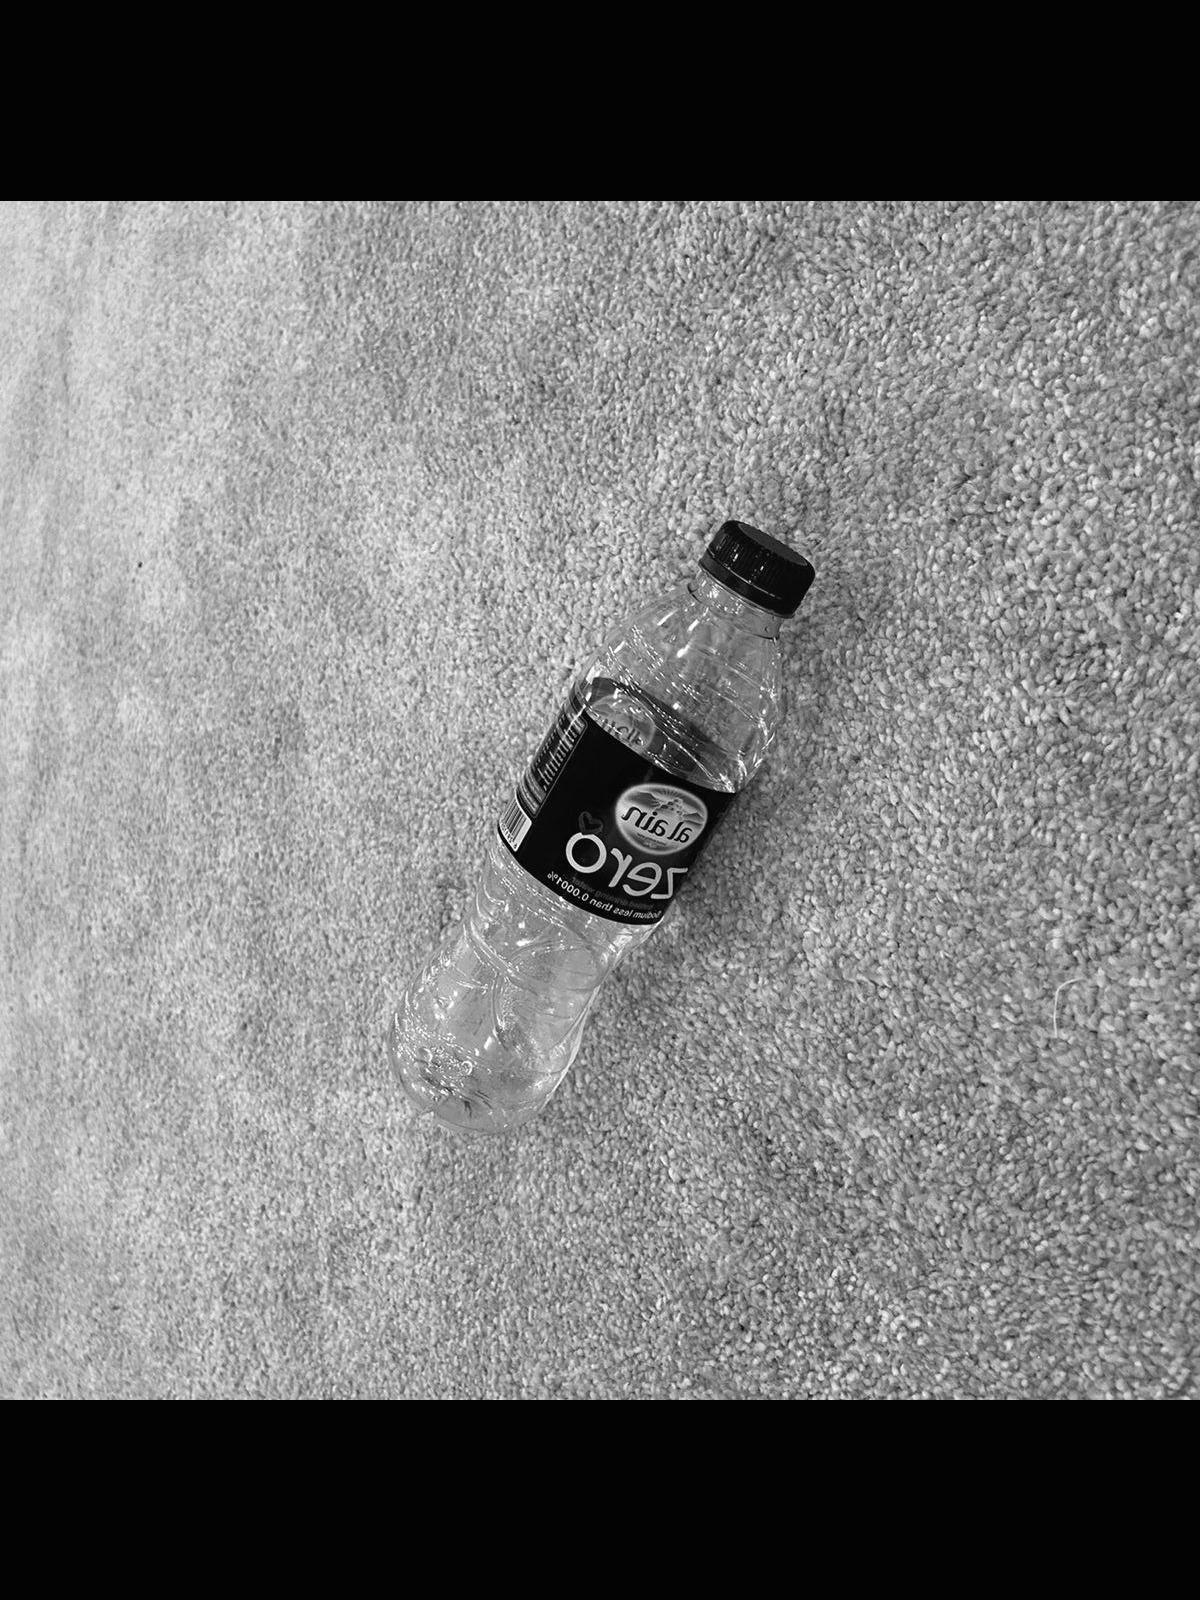bottle: (385, 522, 835, 1132)
